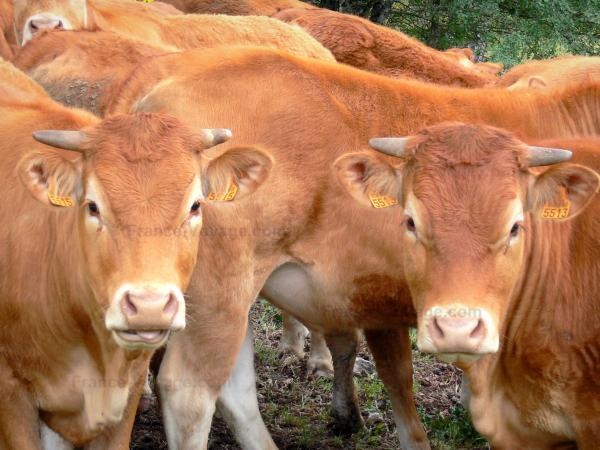muzzles: (100, 281, 191, 352), (410, 303, 502, 369)
